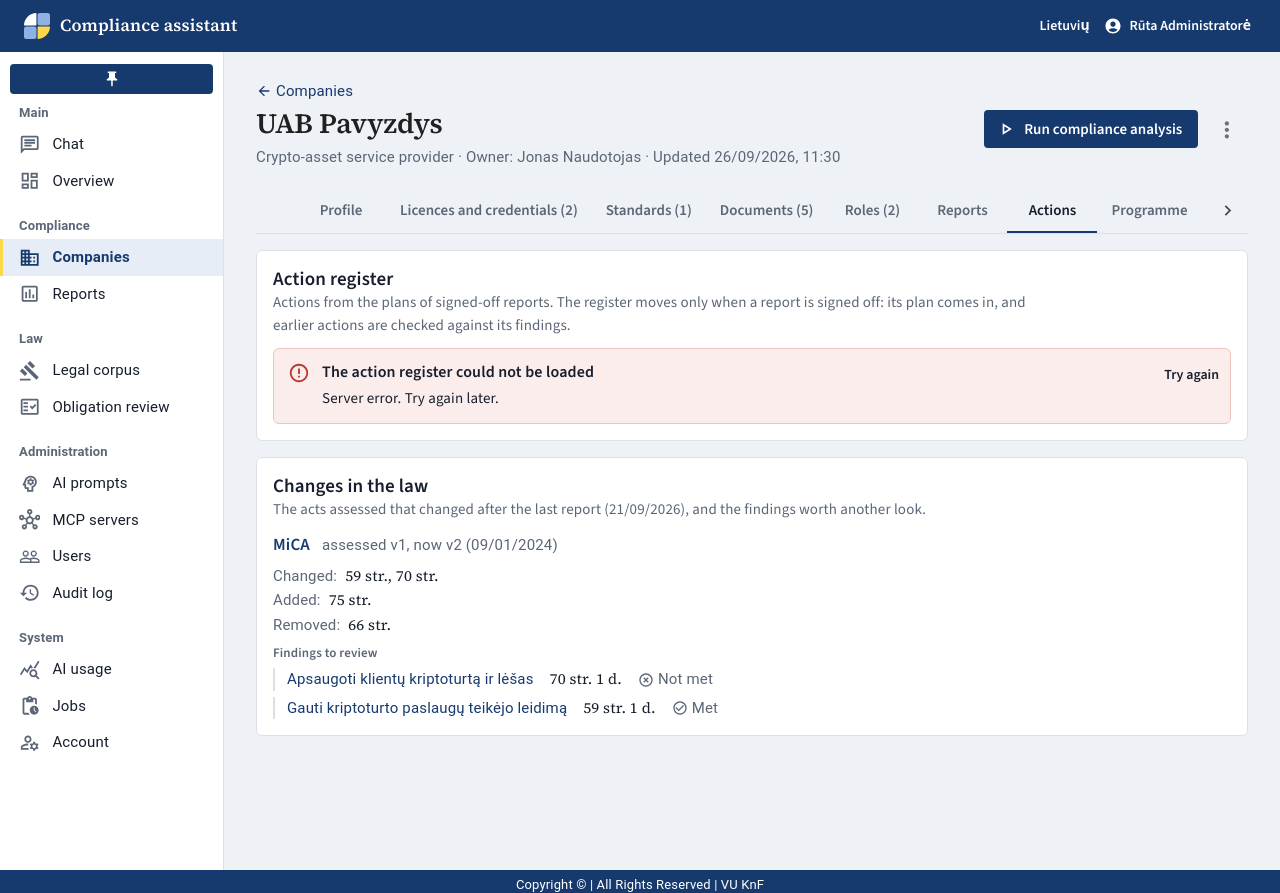
Test: CompanyActions — the register › a register that fails to load says so, with a retry that brings it
Check: the heading "UAB Pavyzdys" is shown, box [256, 104, 442, 142]
Check: the message shows "The action register could not be loaded", box [322, 361, 594, 382]
Click the button "Try again" at (1192, 376), box [1159, 359, 1224, 392]
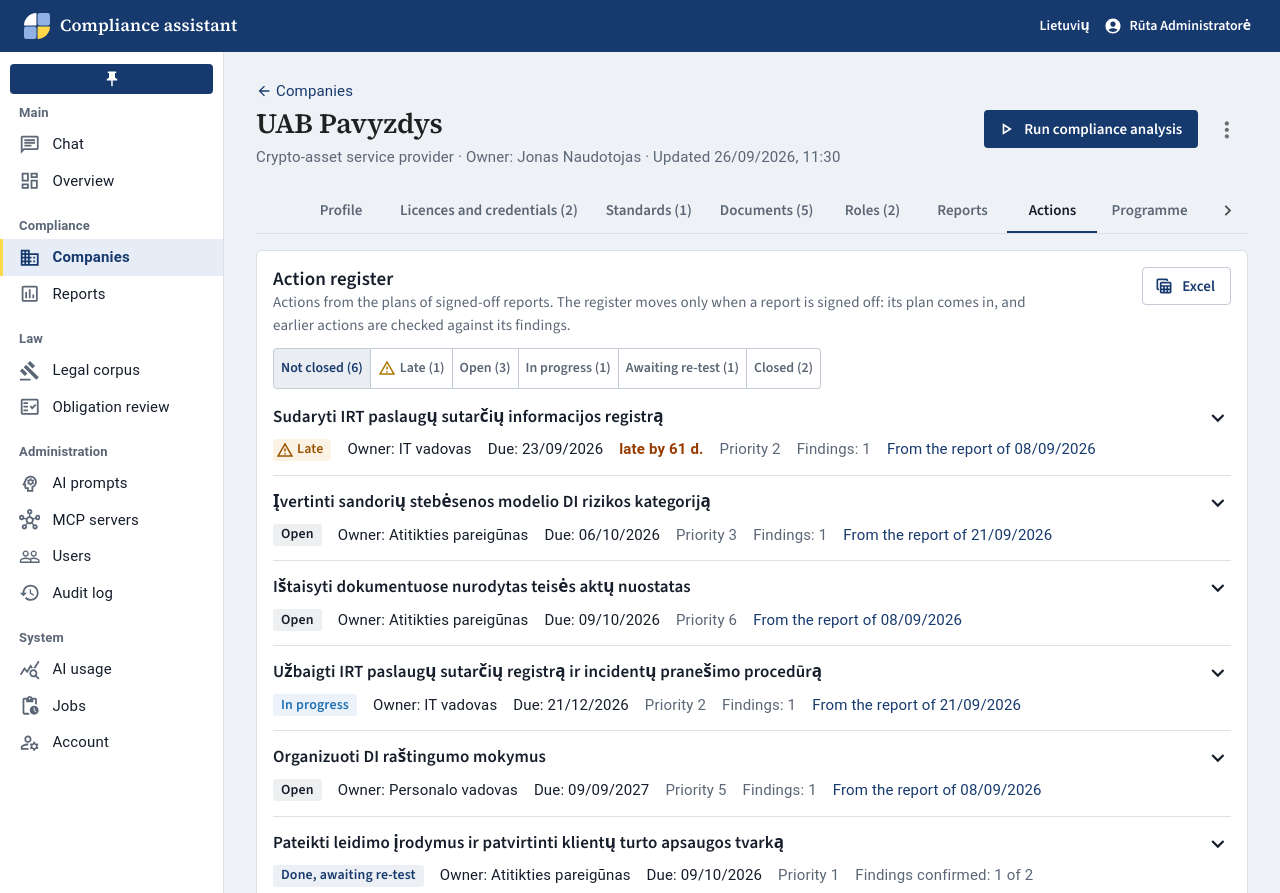
Check: the message is gone
